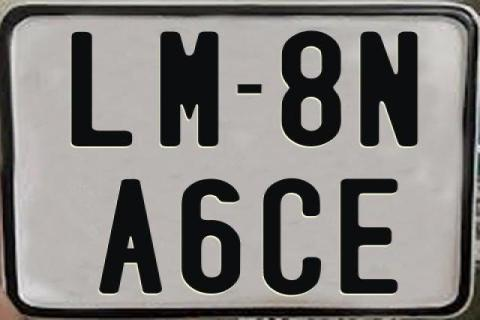0: (281, 30, 346, 148), (179, 177, 241, 293)
A: (96, 177, 159, 291)
C: (262, 177, 321, 296)
E: (339, 176, 399, 296)
L: (71, 32, 132, 151)
M: (159, 30, 220, 146)
N: (358, 31, 422, 147)
